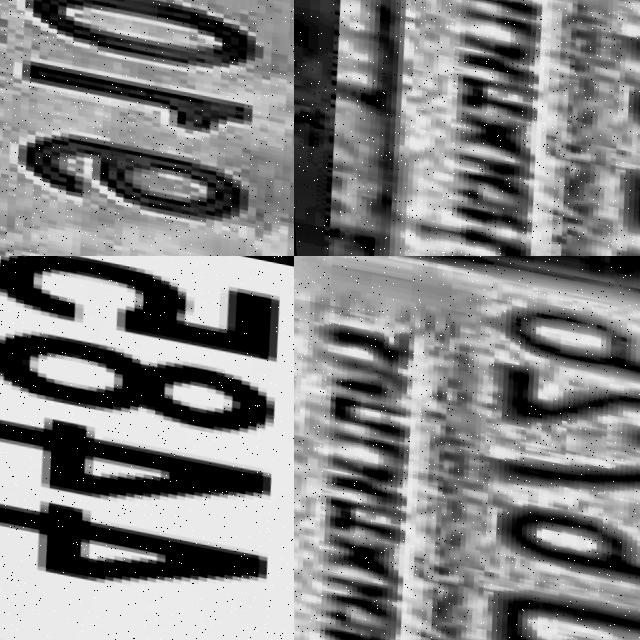license-plate: (294, 256, 640, 640), (0, 256, 294, 640), (318, 0, 640, 256), (0, 0, 294, 256)
